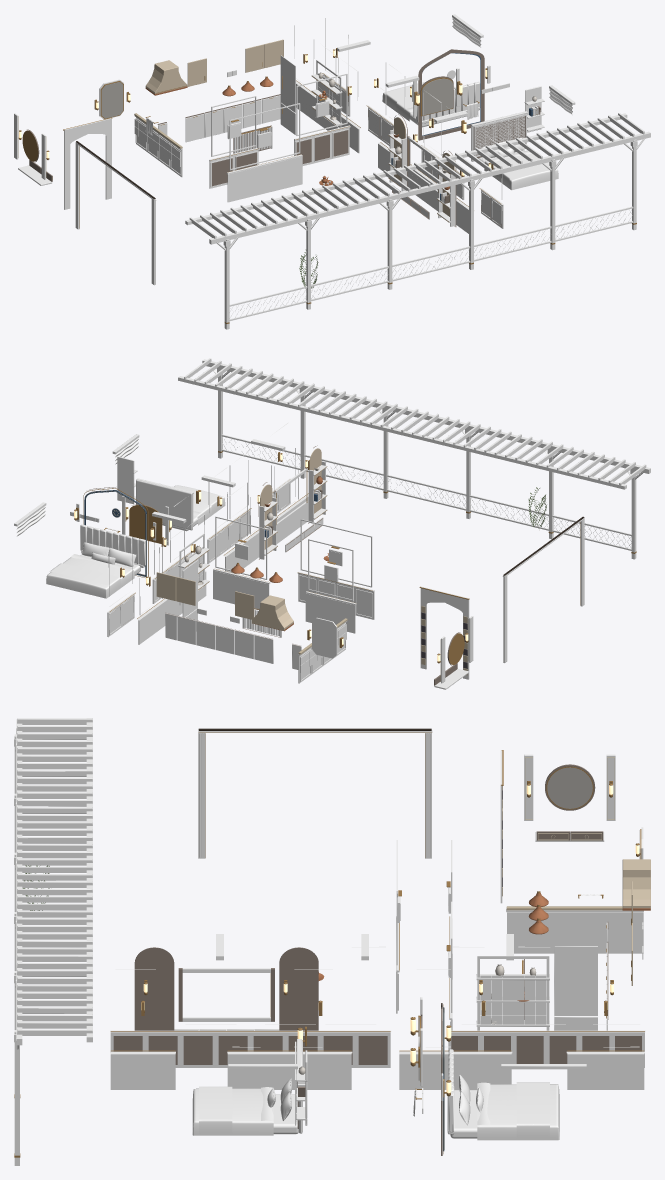
Rendered from residence-interiors.glb.
3 renders of one model, top to bottom at view 1: azimuth 30°, elevation 25°; view 2: azimuth 150°, elevation 25°; view 3: azimuth 270°, elevation 25°, orthographic. The views are drawn at different scales.
Parts seen in each view (by area): view 1: static-material-batches.010, static-material-batches.003, static-material-batches.004, static-material-batches.005, static-material-batches.007, static-material-batches.006, static-material-batches, static-material-batches.009, static-material-batches.002, static-material-batches.008, static-material-batches.011; view 2: static-material-batches.010, static-material-batches.003, static-material-batches.005, static-material-batches.004, static-material-batches.006, static-material-batches.007, static-material-batches.002, static-material-batches, static-material-batches.009, static-material-batches.008, static-material-batches.011; view 3: static-material-batches.005, static-material-batches.010, static-material-batches.003, static-material-batches.002, static-material-batches.006, static-material-batches.007, static-material-batches.009, static-material-batches, static-material-batches.011, static-material-batches.004, static-material-batches.008.
Boxes of the visible parts, x1,y1,x2,y2 form: static-material-batches.010: [185, 113, 650, 329]; static-material-batches.003: [145, 39, 342, 153]; static-material-batches.004: [209, 73, 350, 202]; static-material-batches.005: [294, 18, 503, 233]; static-material-batches.007: [461, 85, 575, 190]; static-material-batches.006: [382, 14, 490, 140]; static-material-batches: [14, 113, 112, 209]; static-material-batches.009: [94, 79, 182, 177]; static-material-batches.002: [319, 114, 456, 226]; static-material-batches.008: [413, 68, 509, 119]; static-material-batches.011: [75, 141, 155, 285]; static-material-batches.010: [178, 358, 650, 559]; static-material-batches.003: [156, 533, 301, 669]; static-material-batches.005: [107, 422, 309, 644]; static-material-batches.004: [213, 516, 374, 633]; static-material-batches.006: [14, 487, 156, 598]; static-material-batches.007: [112, 434, 225, 531]; static-material-batches.002: [258, 445, 328, 561]; static-material-batches: [419, 586, 473, 689]; static-material-batches.009: [298, 617, 347, 683]; static-material-batches.008: [70, 495, 171, 545]; static-material-batches.011: [503, 516, 584, 662]; static-material-batches.005: [110, 934, 645, 1089]; static-material-batches.010: [14, 718, 92, 1165]; static-material-batches.003: [476, 859, 650, 1030]; static-material-batches.002: [134, 947, 324, 1030]; static-material-batches.006: [441, 1003, 586, 1155]; static-material-batches.007: [192, 1026, 307, 1135]; static-material-batches.009: [506, 827, 643, 953]; static-material-batches: [500, 750, 615, 903]; static-material-batches.011: [198, 728, 432, 858]; static-material-batches.004: [396, 840, 452, 1030]; static-material-batches.008: [410, 997, 423, 1116].
Size of the model in its own units: 14.53 by 3.01 by 12.25.
